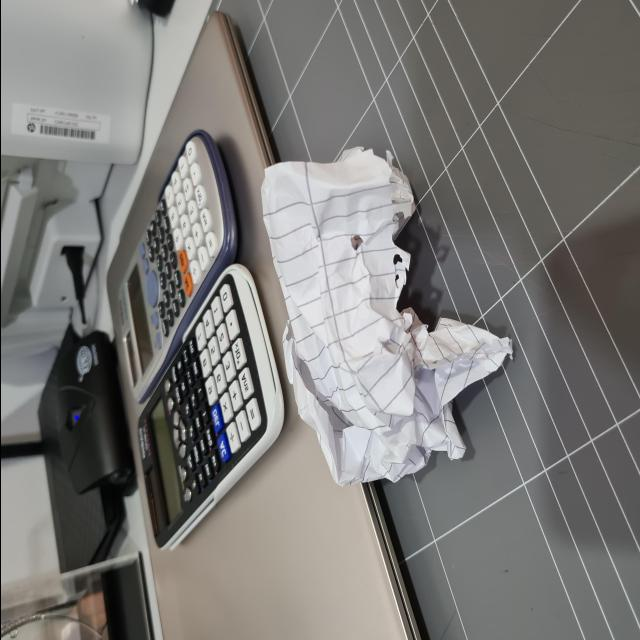kertas: (256, 147, 494, 487)
